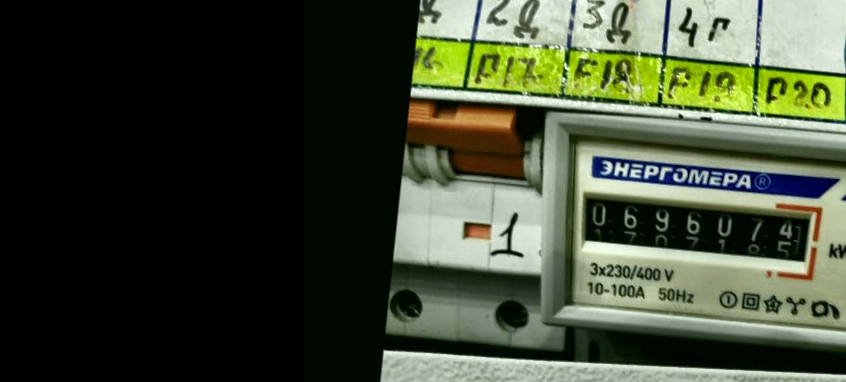0: (590, 199, 611, 226), (716, 209, 736, 237)
4: (778, 215, 797, 238)
5: (776, 238, 794, 259)
6: (684, 206, 705, 235), (622, 201, 642, 228)
7: (748, 214, 767, 241)
9: (653, 204, 672, 231)
screen: (568, 177, 828, 283)
